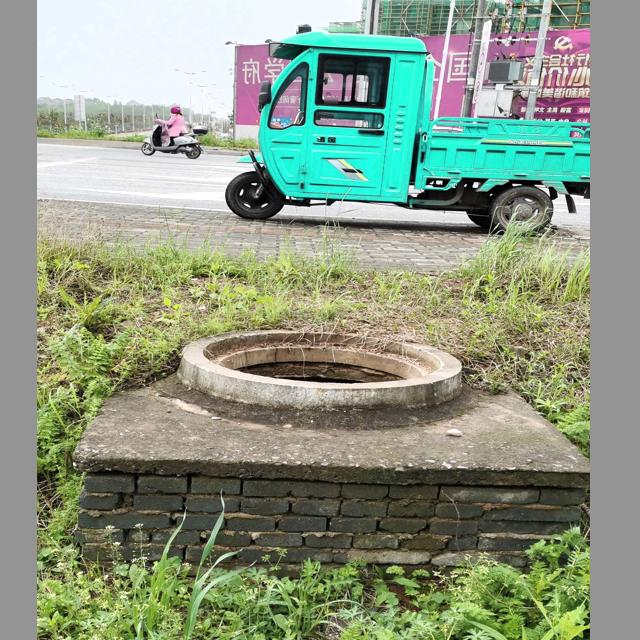lose: (179, 323, 458, 408)
